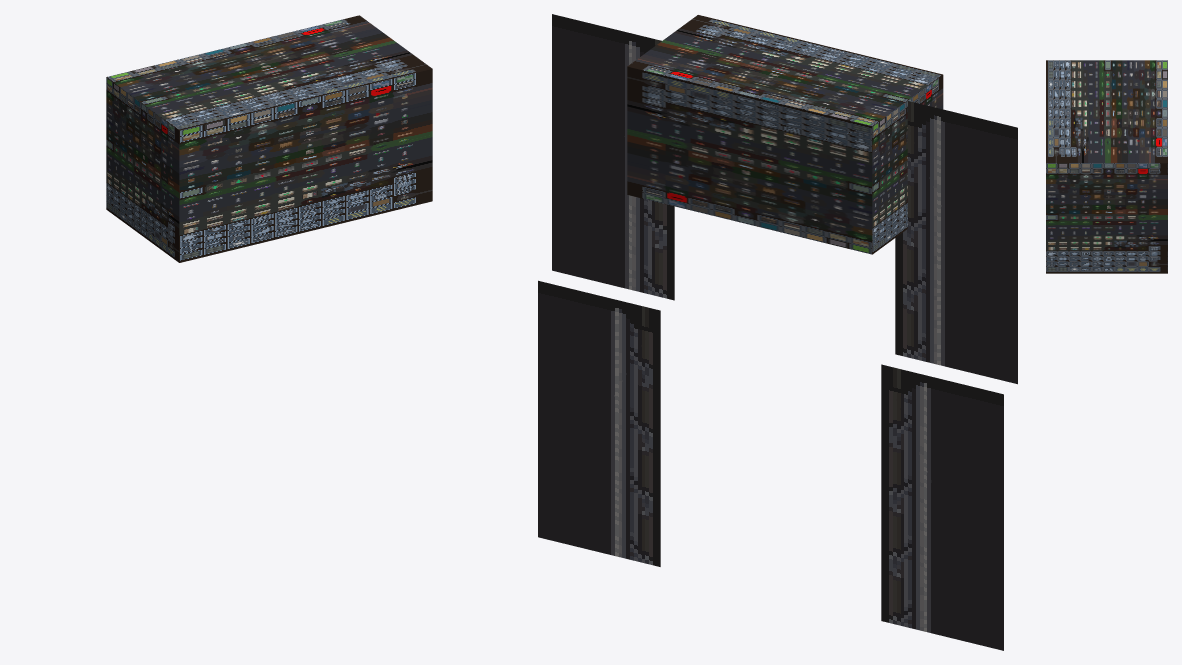
File: Visual_ExitPoint_W2_T.glb
3 renders of one model, left to right at view 1: azimuth 30°, elevation 25°; view 2: azimuth 150°, elevation 25°; view 3: azimuth 270°, elevation 25°, orthographic. The views are drawn at different scales.
Visible parts, largest first — view 1: Renderer; view 2: Renderer, Quad (3), Quad (2), Quad (4), Quad (5); view 3: Renderer.
Boxes of the visible parts, left/top/right/bottom form: Renderer: left=106, top=15, right=432, bottom=262; Renderer: left=627, top=15, right=943, bottom=254; Quad (3): left=538, top=280, right=660, bottom=566; Quad (2): left=881, top=364, right=1003, bottom=650; Quad (4): left=895, top=101, right=1017, bottom=384; Quad (5): left=552, top=14, right=674, bottom=300; Renderer: left=1046, top=60, right=1167, bottom=273.
Size of the model in its own units: 1.9 by 2 by 0.5.
Materials: 3 (3 with a texture image).
